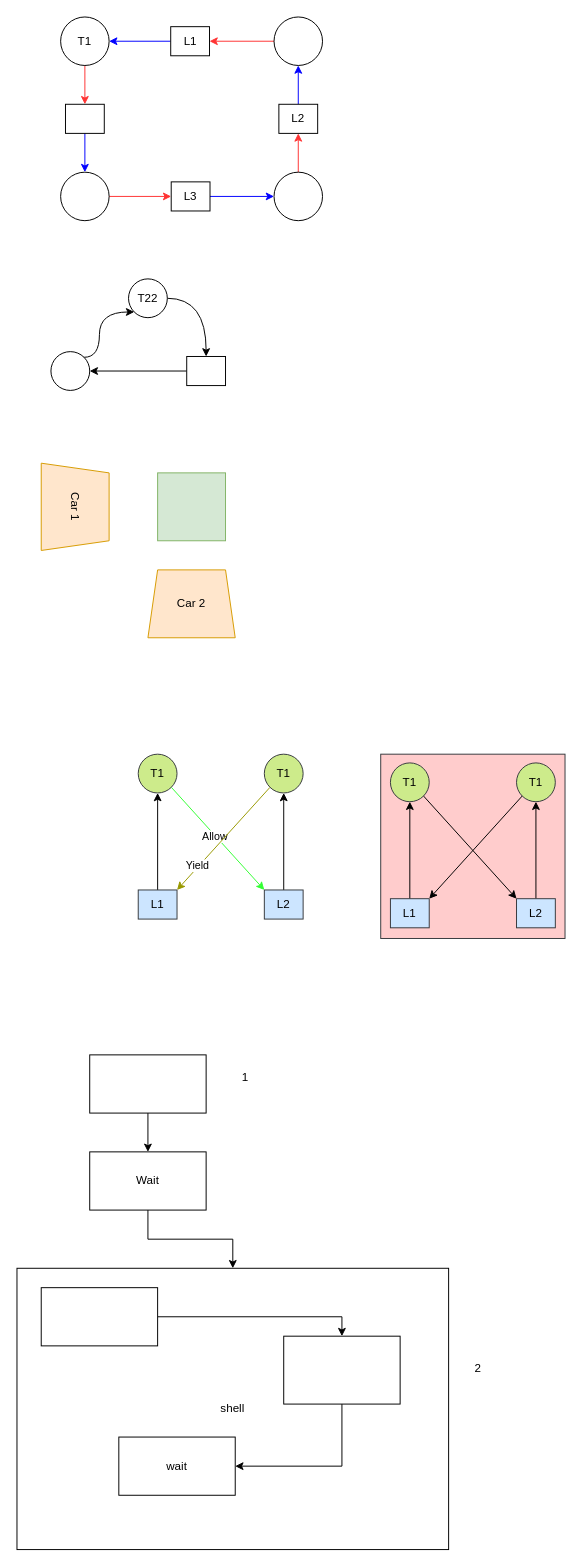
This 582x1567 diagram has some shape labels left out. The centre of each missing label's shape, as x and y in pixels:
"exec" belongs at point 341,1369.
"Init" belongs at point 147,1083.
"L4" belongs at point 84,118.
"L7" belongs at point 206,371.
"read" belongs at point 99,1316.
"T13" belongs at point 70,370.
"T2" belongs at point 298,40.
"T3" belongs at point 298,196.
"T4" belongs at point 84,196.
